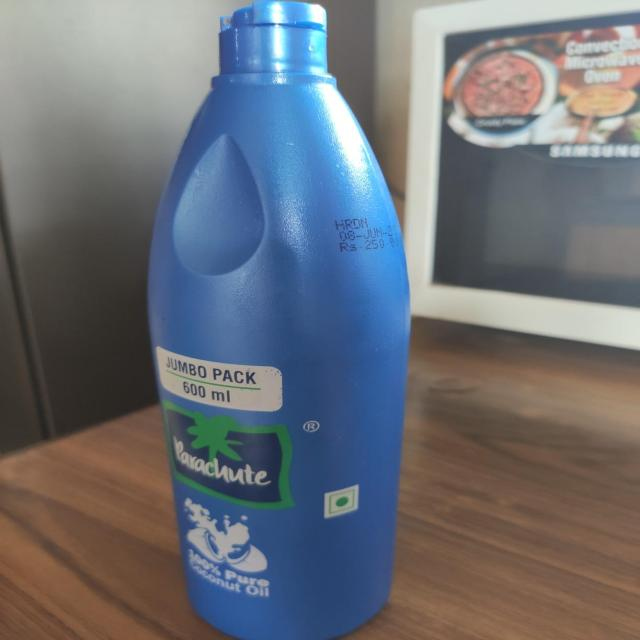parachute_oil: (120, 1, 427, 640)
